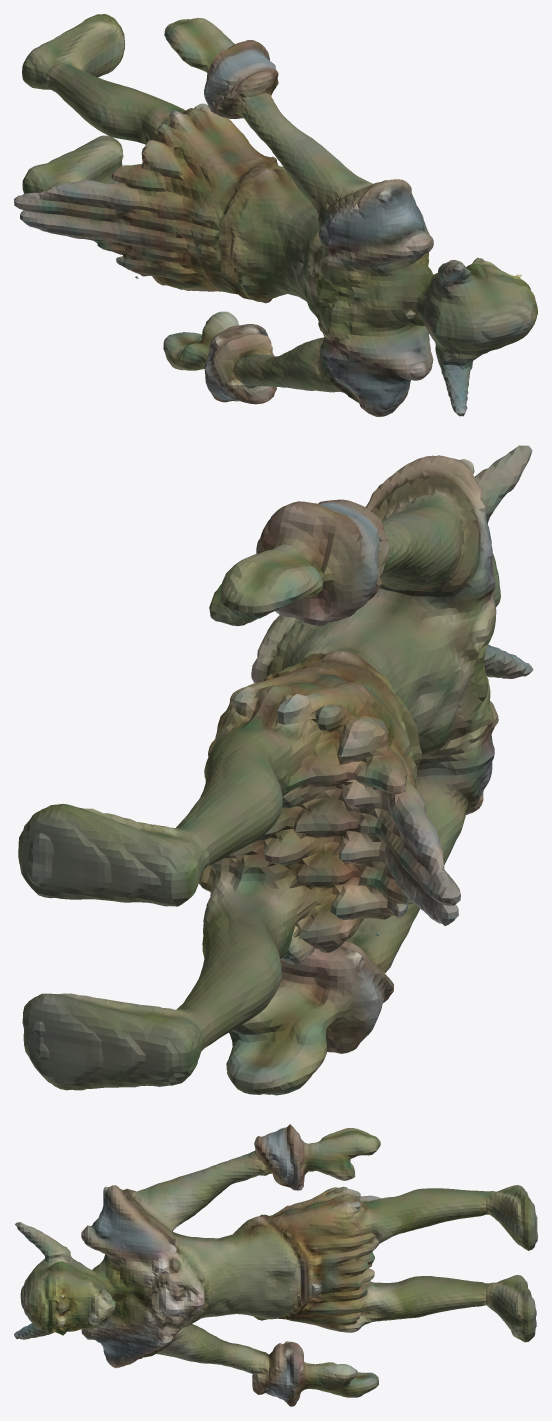
The model's file is goblin.glb.
3 views of the same model, one above another, from view 1: azimuth 30°, elevation 25°; view 2: azimuth 150°, elevation 25°; view 3: azimuth 270°, elevation 25° (orthographic). The views are drawn at different scales.
Parts seen in each view (by area): view 1: world; view 2: world; view 3: world.
Boxes of the visible parts, box(x1,y1,x2,y2) form: world: box(14, 14, 537, 416); world: box(18, 445, 533, 1095); world: box(14, 1124, 537, 1406).
Size of the model in its own units: 0.5034 by 0.581 by 1.01.
